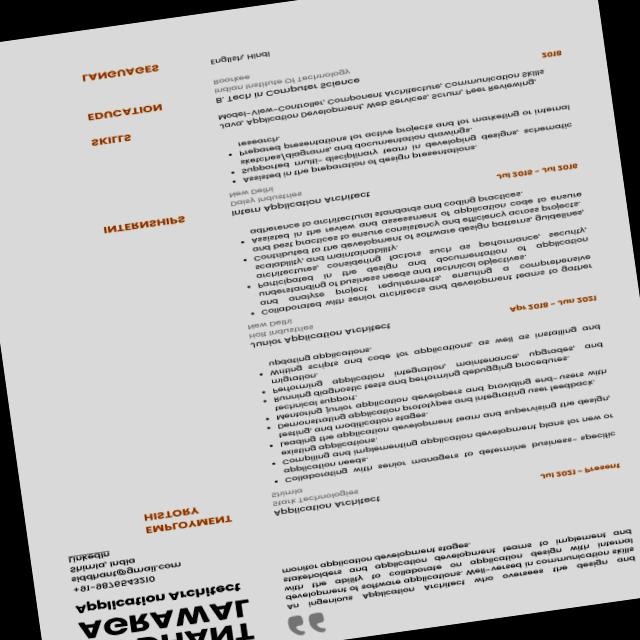contact: (58, 532, 204, 595)
education: (78, 28, 582, 126)
experience: (101, 174, 640, 538), (87, 92, 588, 240)
header: (63, 572, 272, 640)
languages: (62, 19, 373, 92)
skills: (82, 60, 560, 154)
summary: (273, 503, 640, 612)
